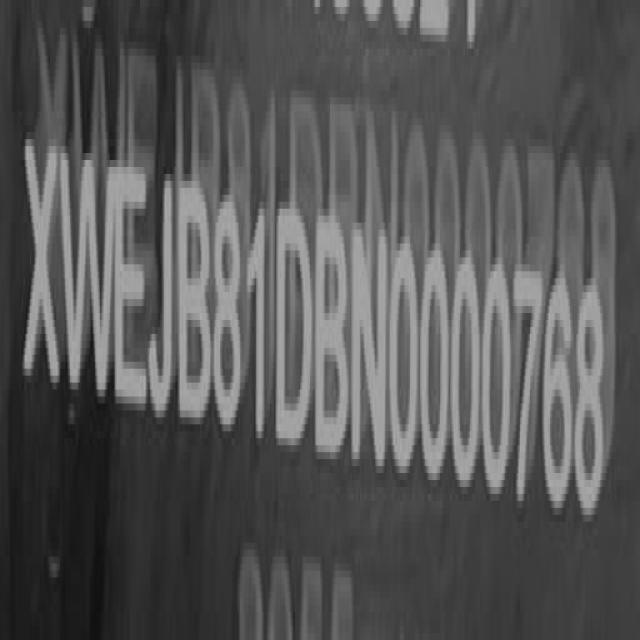0: (420, 247, 452, 489), (392, 242, 423, 486), (482, 266, 513, 504), (452, 263, 482, 497)
1: (248, 201, 272, 453)
6: (546, 273, 577, 517)
7: (514, 264, 544, 512)
8: (212, 201, 244, 445), (576, 285, 608, 522)
B: (179, 178, 214, 438), (314, 212, 349, 470)
D: (279, 205, 314, 460)
E: (116, 168, 150, 427)
J: (148, 176, 180, 430)
N: (349, 209, 392, 481)
W: (63, 157, 117, 414)
X: (22, 135, 61, 406)
